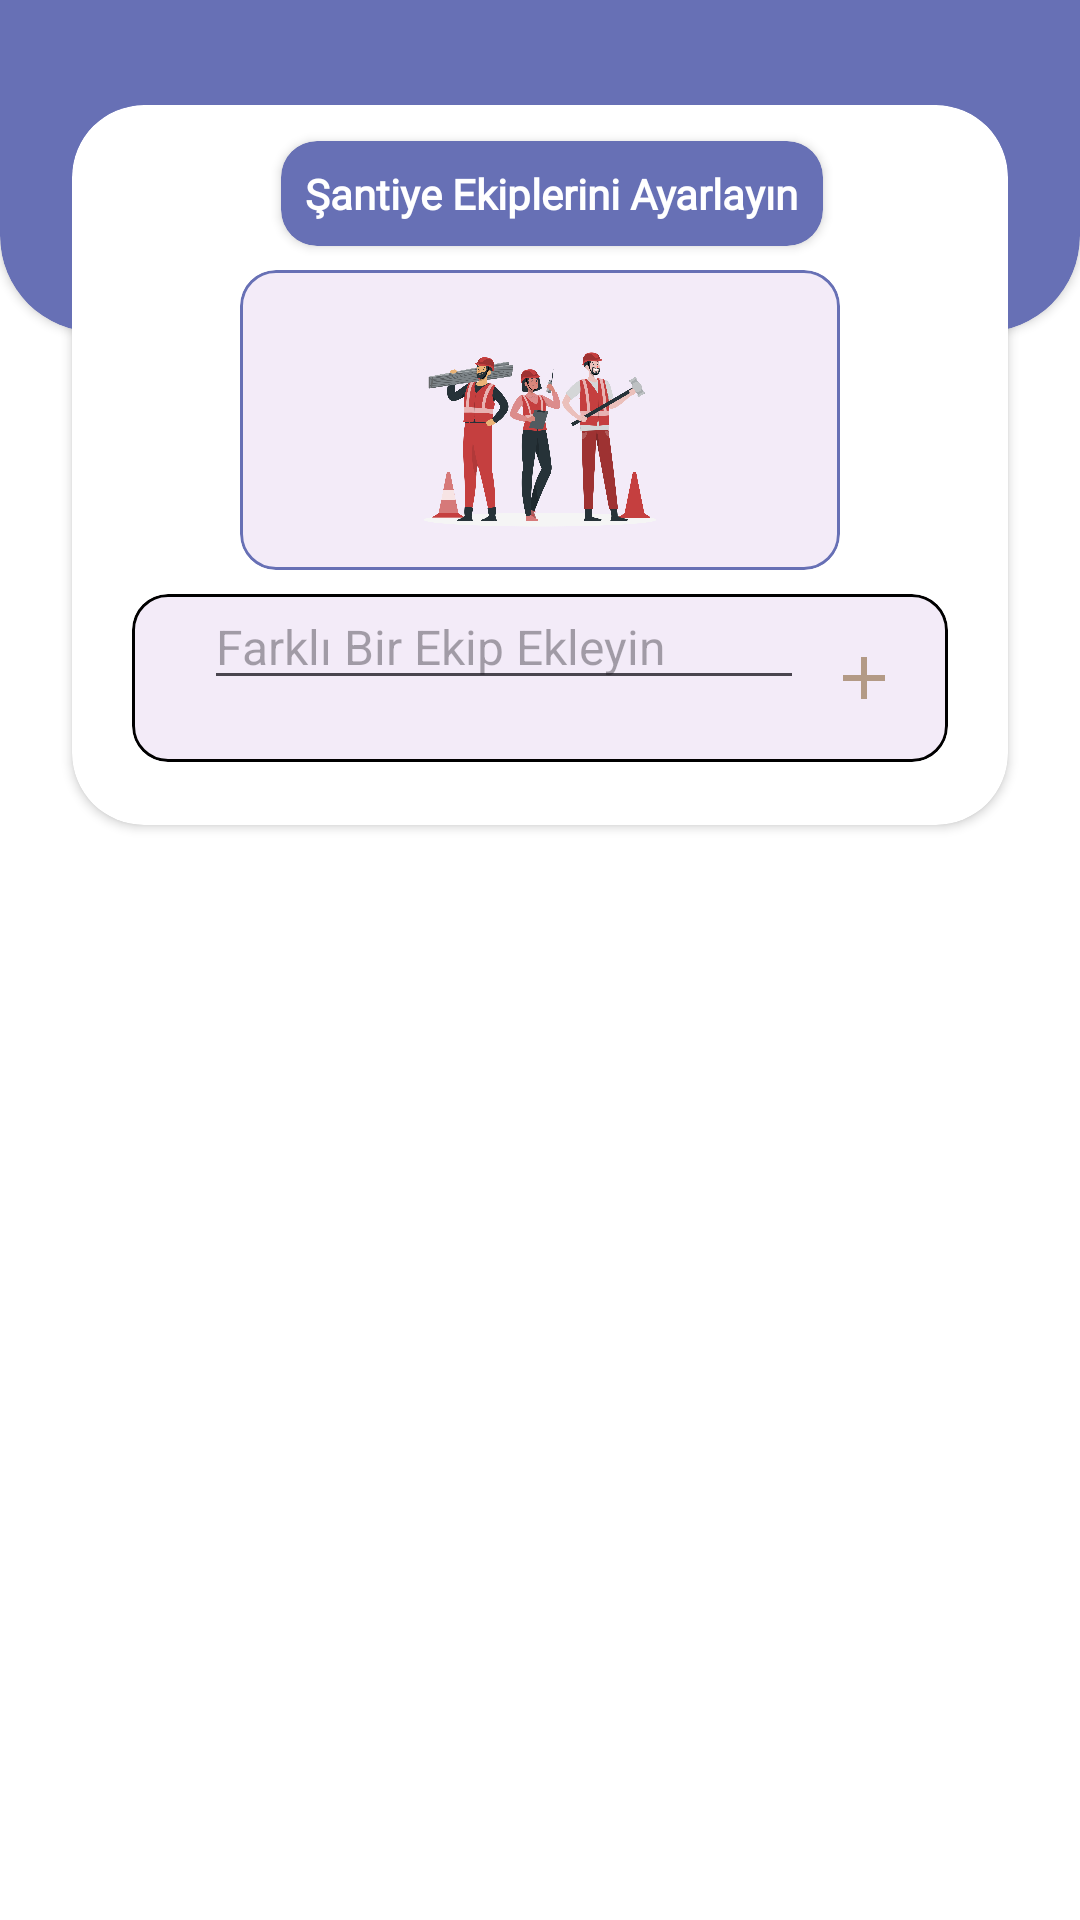

Named icons in this screenshot (1080×1920) and their centers, (x=x, y=y):
add: (x=864, y=678)
